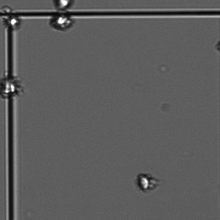Living Cell: (135, 169, 161, 195), (50, 10, 77, 35), (1, 76, 22, 98), (2, 14, 22, 37), (51, 1, 73, 9)
